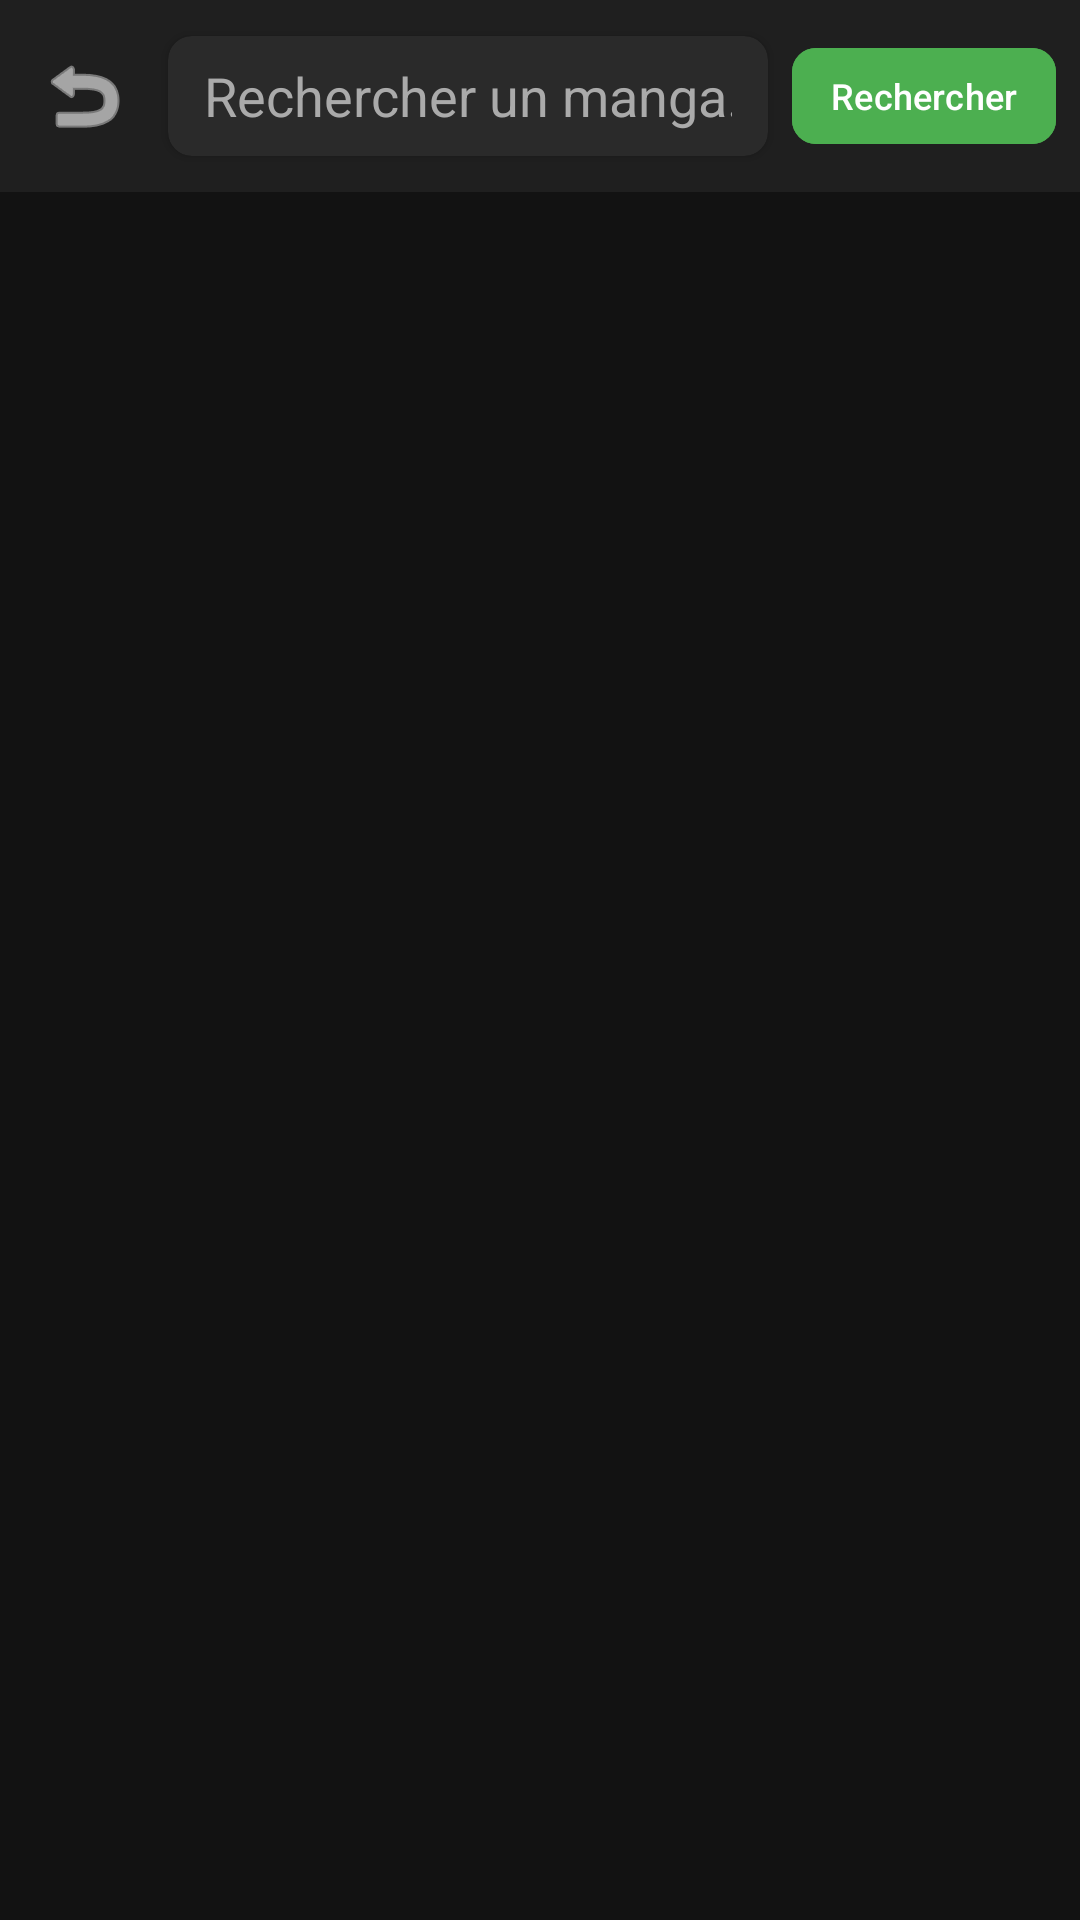

Where to tap for icons on this 1080*1920 app screen, as (x=x, y=y):
Retour: (x=85, y=96)
